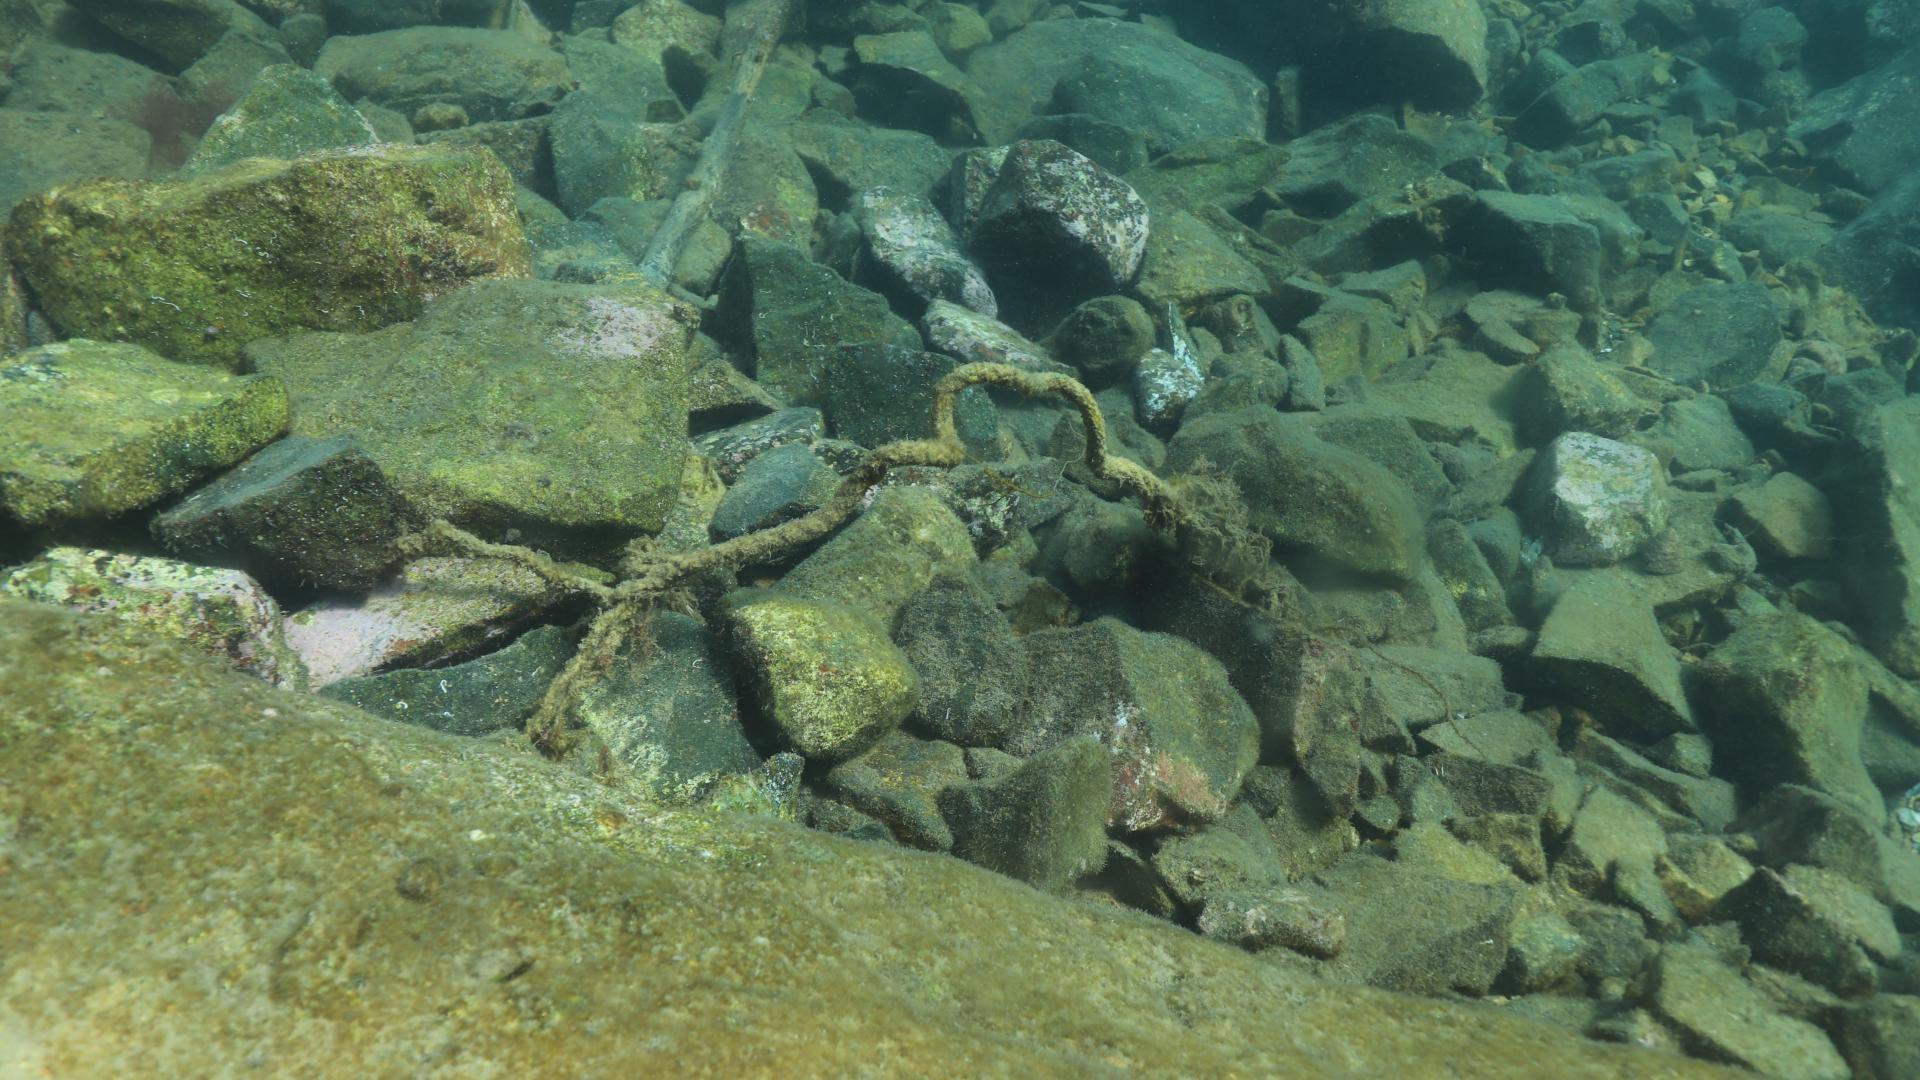rope: (411, 357, 1168, 752)
